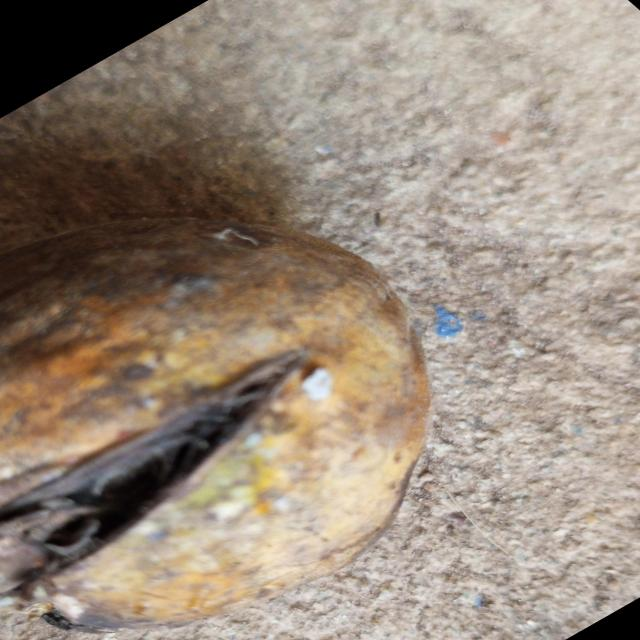damaged: (0, 219, 430, 630)
